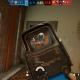Character: (32, 38, 35, 42)
Head: (33, 38, 34, 39)
